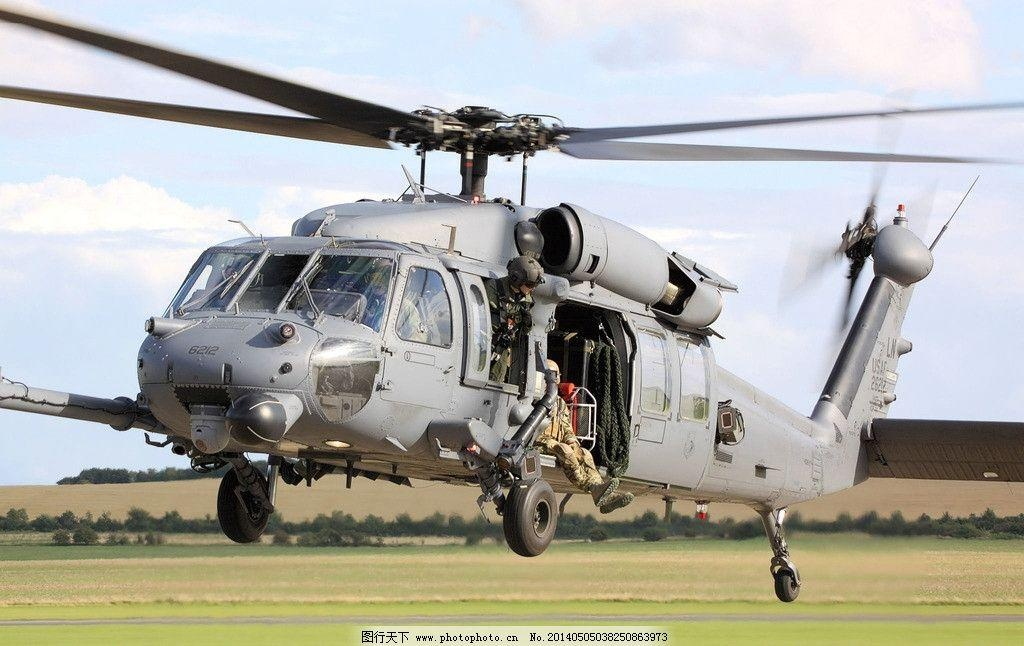airplane: (2, 18, 1024, 603)
